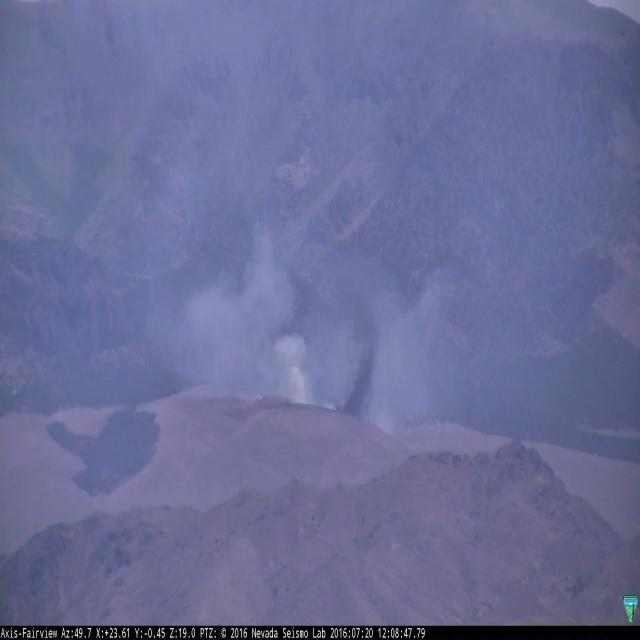smoke: (176, 222, 440, 430)
